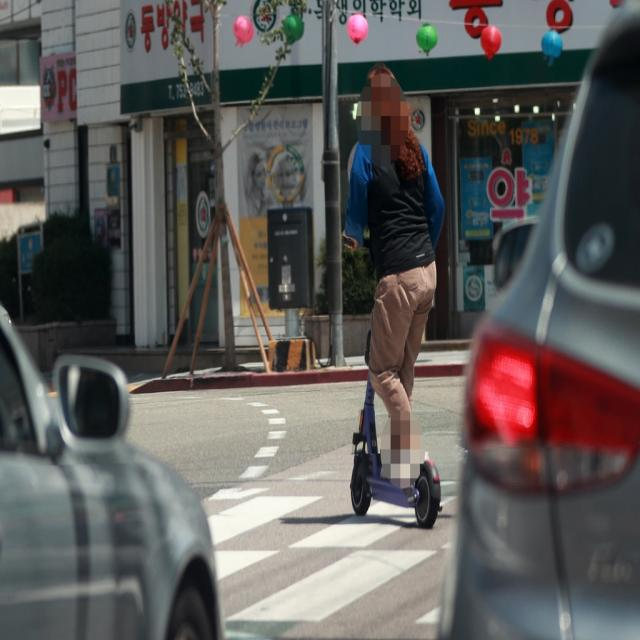non-helmet: (336, 63, 445, 540)
